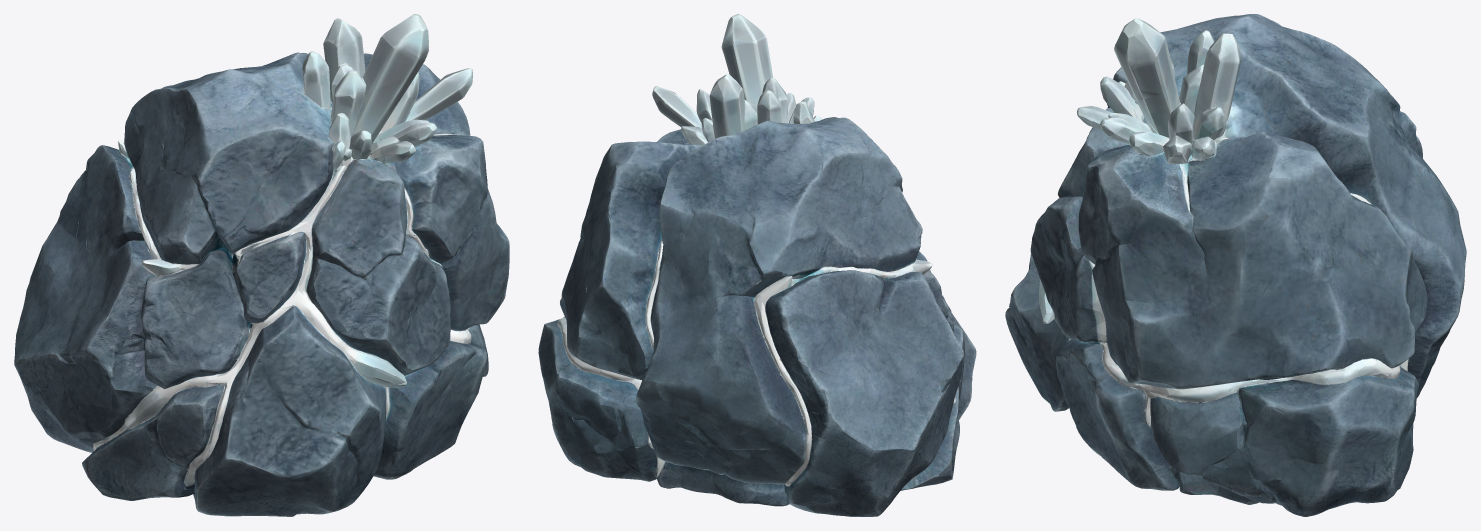
File: hf_moonrock.glb
3 renders of one model, left to right at view 1: azimuth 30°, elevation 25°; view 2: azimuth 150°, elevation 25°; view 3: azimuth 270°, elevation 25°, orthographic. The views are drawn at different scales.
Bounding box in the file's own units: 1.9 × 1.88 × 1.73.
Materials: 1 (1 with a texture image).
